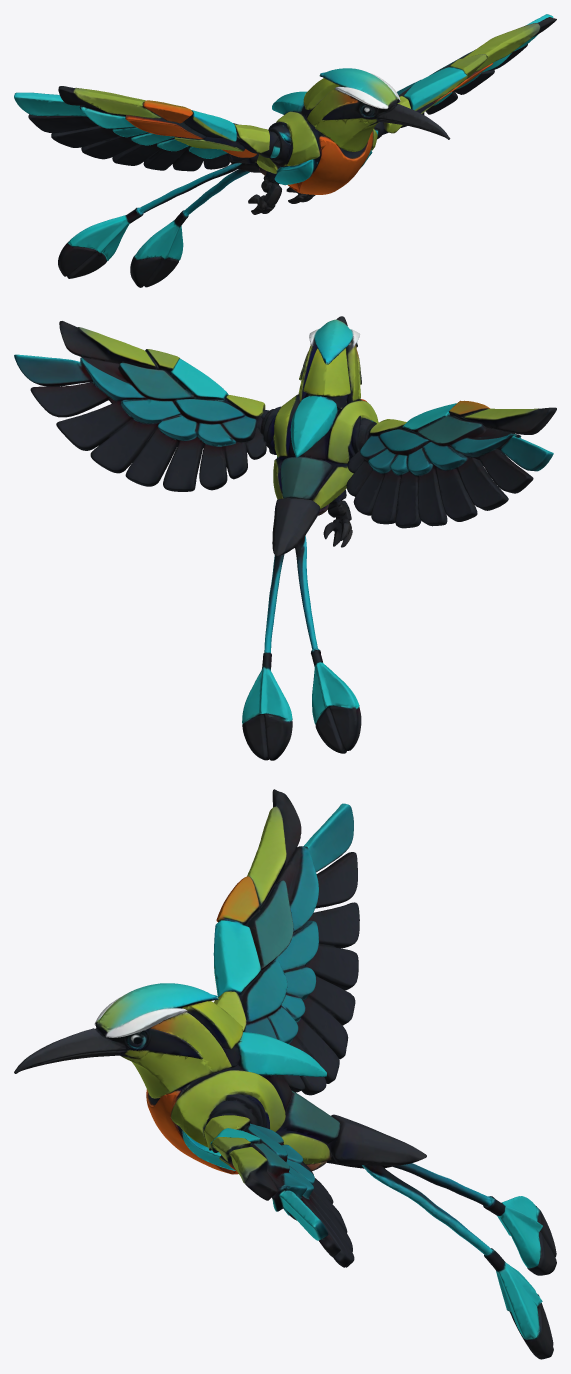
3 views of the same model, one above another, from view 1: azimuth 30°, elevation 25°; view 2: azimuth 150°, elevation 25°; view 3: azimuth 270°, elevation 25° (orthographic). The views are drawn at different scales.
Visible parts, largest first — view 1: tripo_node_c92a7623-5d49-44e9-8e60-f945c3bb9fa6; view 2: tripo_node_c92a7623-5d49-44e9-8e60-f945c3bb9fa6; view 3: tripo_node_c92a7623-5d49-44e9-8e60-f945c3bb9fa6.
Part boxes in pixels (x1,y1,x2,y2): tripo_node_c92a7623-5d49-44e9-8e60-f945c3bb9fa6: [14, 14, 556, 287]; tripo_node_c92a7623-5d49-44e9-8e60-f945c3bb9fa6: [14, 316, 556, 760]; tripo_node_c92a7623-5d49-44e9-8e60-f945c3bb9fa6: [14, 789, 556, 1359].
Size of the model in its own units: 0.9804 by 0.5545 by 0.618.
Materials: 1 (1 with a texture image).
